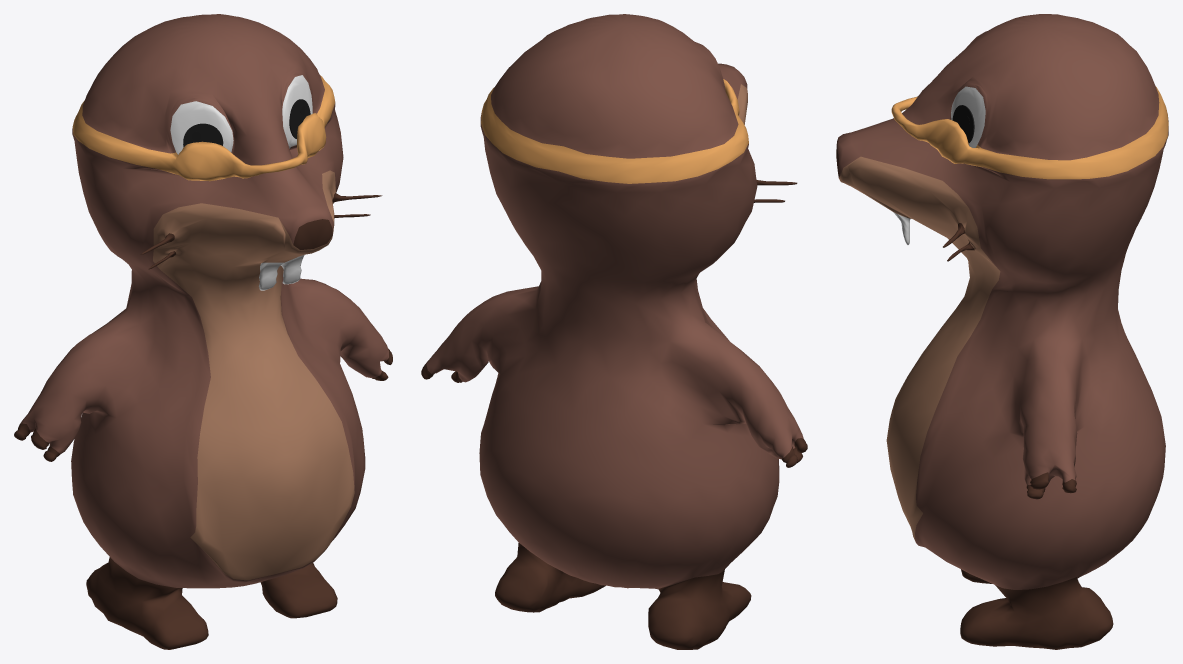
The model's file is Topo_colores_planos.fbx.
The picture shows the model from 3 angles, left to right: view 1: azimuth 30°, elevation 25°; view 2: azimuth 150°, elevation 25°; view 3: azimuth 270°, elevation 25°; orthographic projection. The views are drawn at different scales.
Parts seen in each view (by area): view 1: Topo colores planos; view 2: Topo colores planos; view 3: Topo colores planos.
Part boxes in pixels (x1=…): Topo colores planos: x1=14, y1=14, x2=392, y2=649; Topo colores planos: x1=421, y1=14, x2=807, y2=649; Topo colores planos: x1=836, y1=14, x2=1168, y2=649.
Size of the model in its own units: 456 by 690 by 357.
